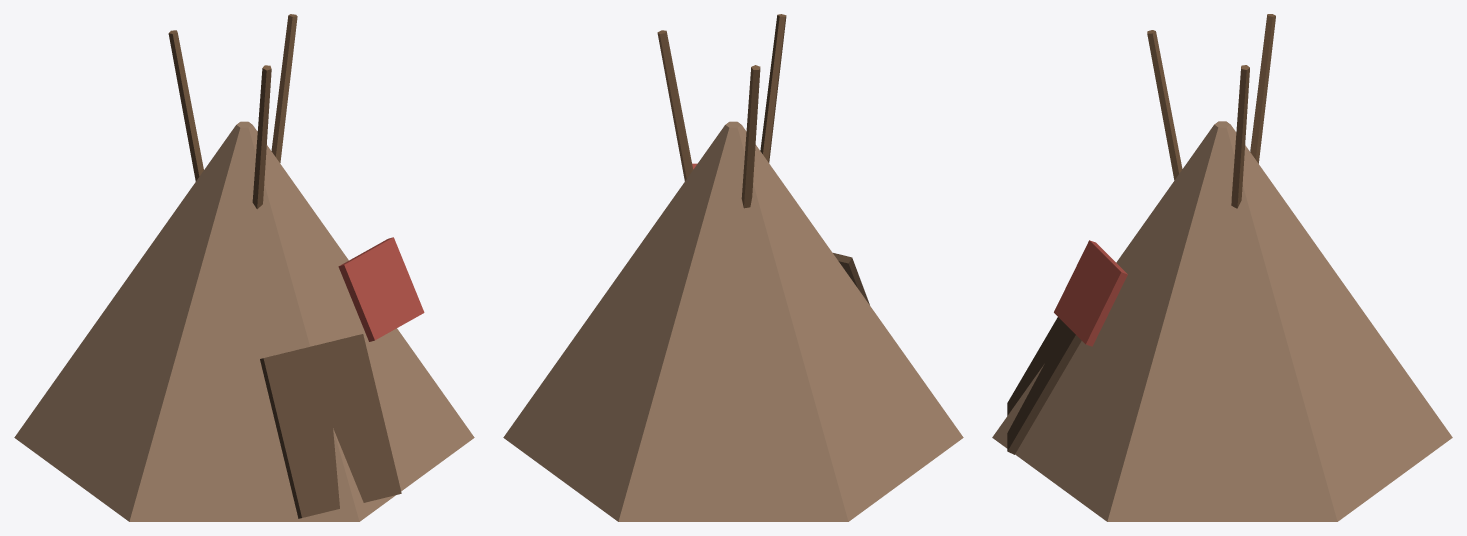
File: goblin_tent.glb
3 views of the same model, side by side, from view 1: azimuth 30°, elevation 25°; view 2: azimuth 150°, elevation 25°; view 3: azimuth 270°, elevation 25° (orthographic).
Parts seen in each view (by area): view 1: goblin_tent; view 2: goblin_tent; view 3: goblin_tent.
Boxes of the visible parts, x1,y1,x2,y2 form: goblin_tent: [14, 14, 474, 521]; goblin_tent: [503, 14, 963, 521]; goblin_tent: [992, 14, 1452, 521].
Size of the model in its own units: 2.42 by 2.77 by 2.8.
